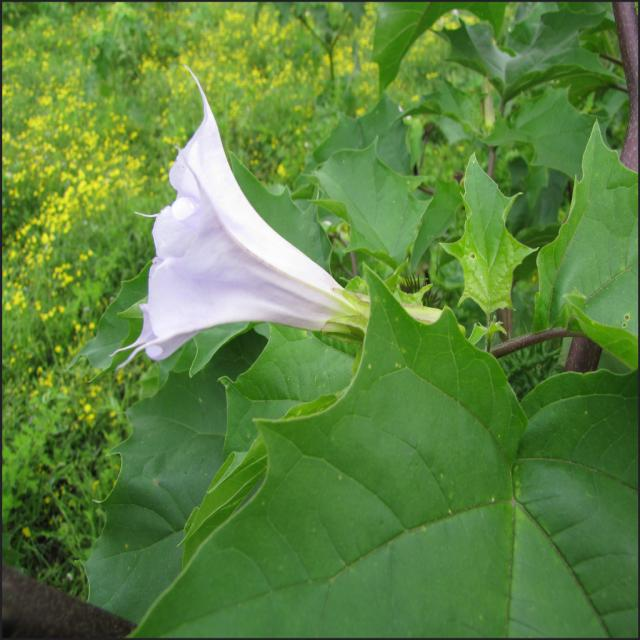Poisonous-Datura_Stramonium: (137, 53, 508, 477), (139, 376, 640, 640)
